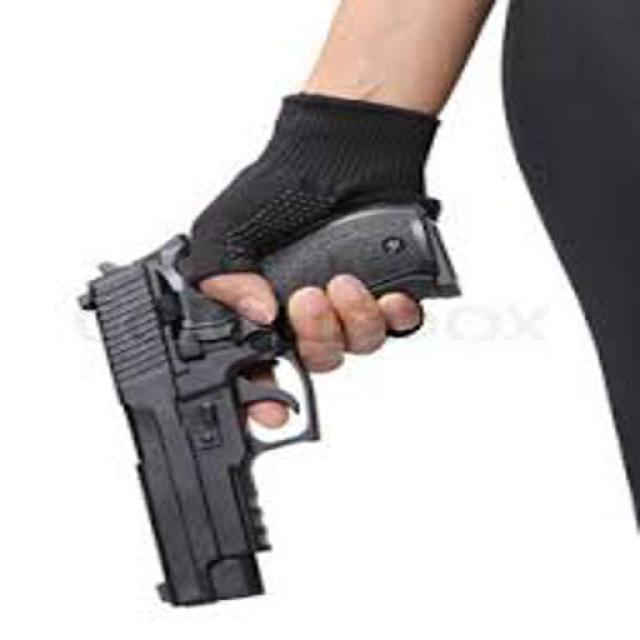pistol: (71, 197, 460, 607)
